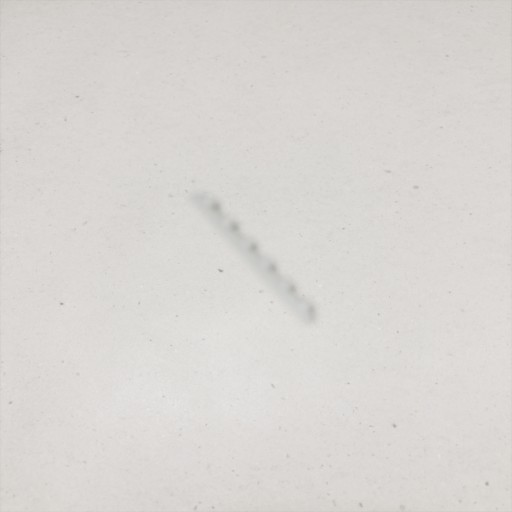lego: (186, 190, 321, 326)
